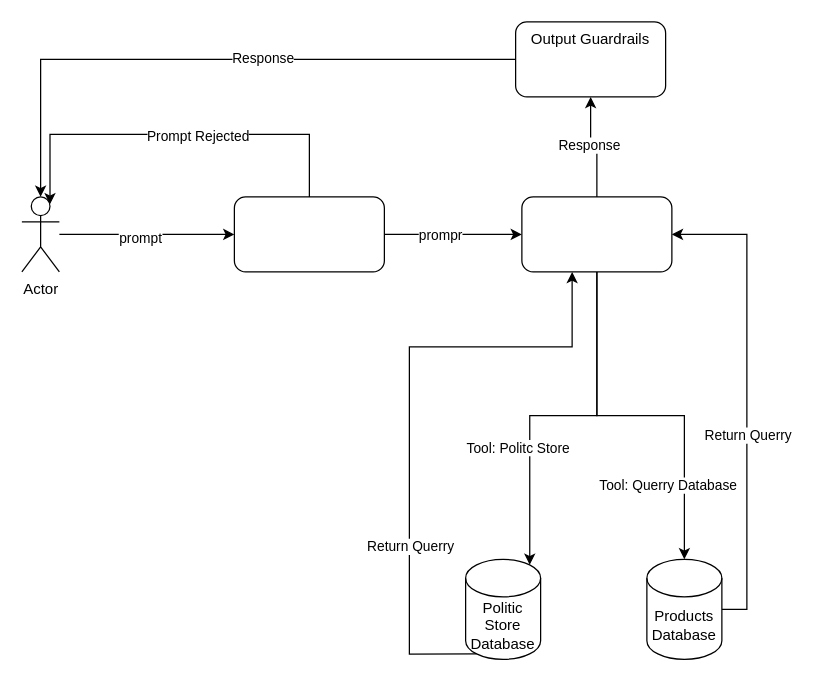
Some shapes in this 813 by 686 pixel diagram are drawn without their labels. Here are the shapes that lost their labels. From the top down, the centre of each, then its label:
At pixel 308 234: "input guardrails".
At pixel 596 234: "Music Agent".
